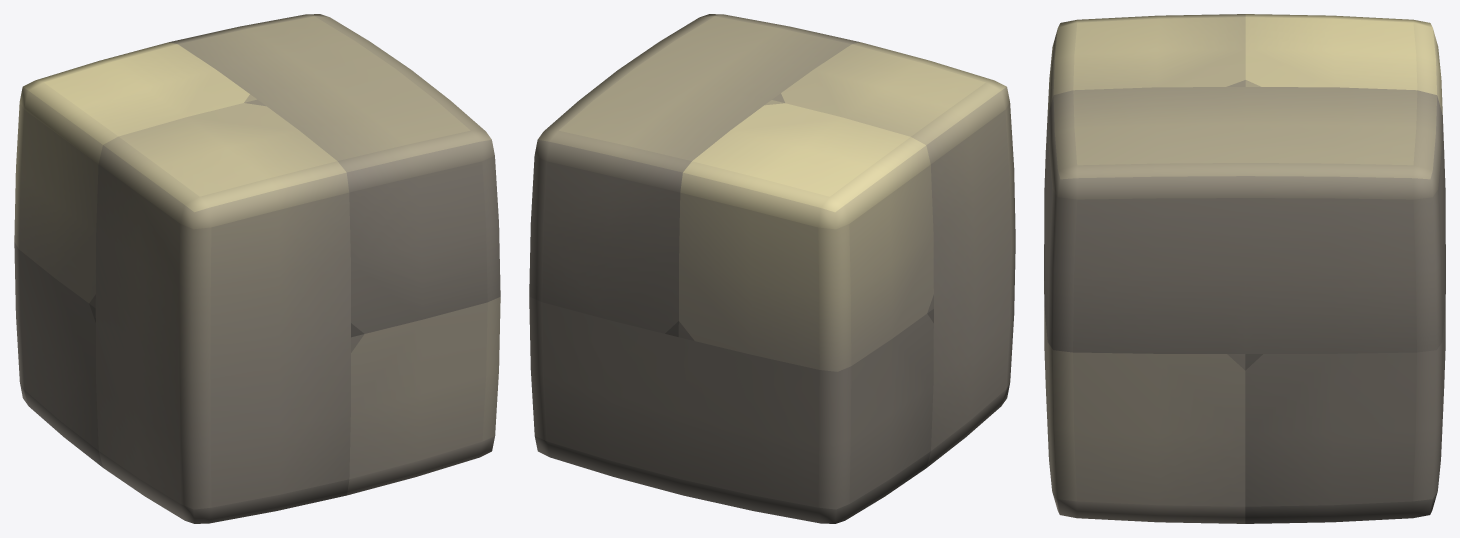
Rendered from block_stone3_1_LOD_setup.fbx.
3 renders of one model, left to right at view 1: azimuth 30°, elevation 25°; view 2: azimuth 150°, elevation 25°; view 3: azimuth 270°, elevation 25°, orthographic. The views are drawn at different scales.
Visible parts, largest first — view 1: block_stone3_1_LOD0; view 2: block_stone3_1_LOD0; view 3: block_stone3_1_LOD0.
Boxes of the visible parts, x1,y1,x2,y2 form: block_stone3_1_LOD0: [14, 14, 500, 523]; block_stone3_1_LOD0: [529, 14, 1015, 523]; block_stone3_1_LOD0: [1044, 14, 1445, 523].
Size of what is drawn, in the model's own units: 109 by 109 by 109.
